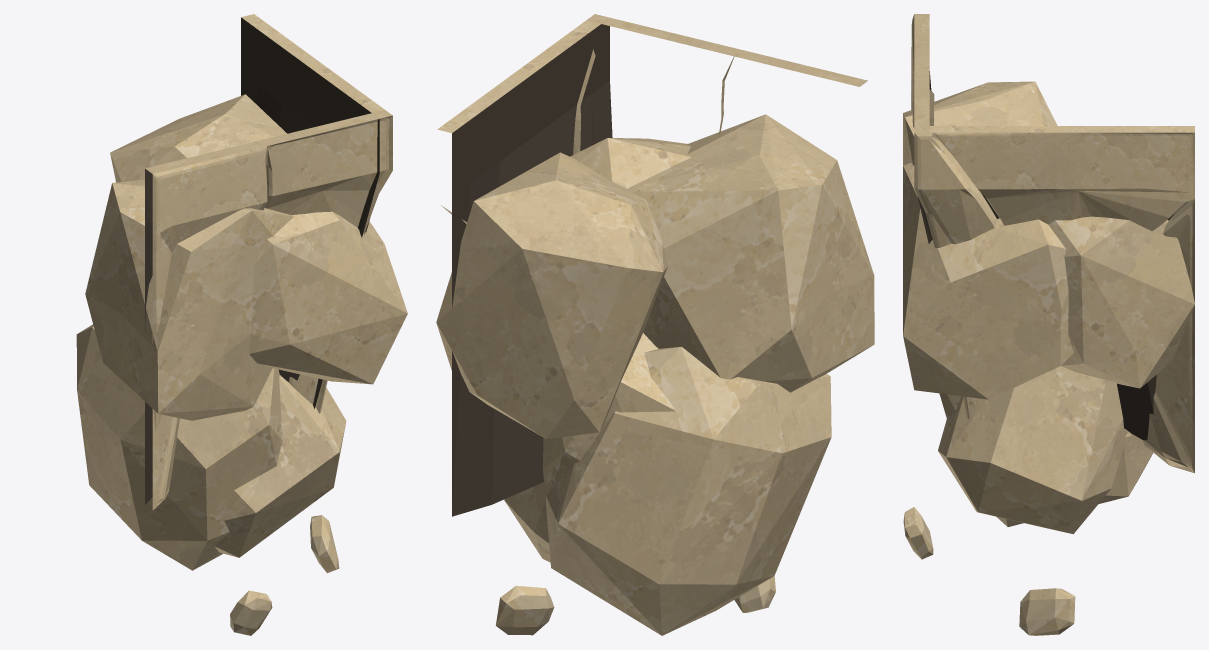
File: ground_bottom_square_corner_02.glb
The picture shows the model from 3 angles, left to right: view 1: azimuth 30°, elevation 25°; view 2: azimuth 150°, elevation 25°; view 3: azimuth 270°, elevation 25°; orthographic projection. The views are drawn at different scales.
Visible parts, largest first — view 1: GroundBottomSquareCorner02_Body; view 2: GroundBottomSquareCorner02_Body; view 3: GroundBottomSquareCorner02_Body.
Part boxes in pixels (bbox=[...]): GroundBottomSquareCorner02_Body: bbox=[76, 14, 407, 635]; GroundBottomSquareCorner02_Body: bbox=[436, 14, 874, 635]; GroundBottomSquareCorner02_Body: bbox=[903, 14, 1194, 635].
Size of the model in its own units: 1.04 by 1.99 by 1.04.
8 materials, 7 textured.
